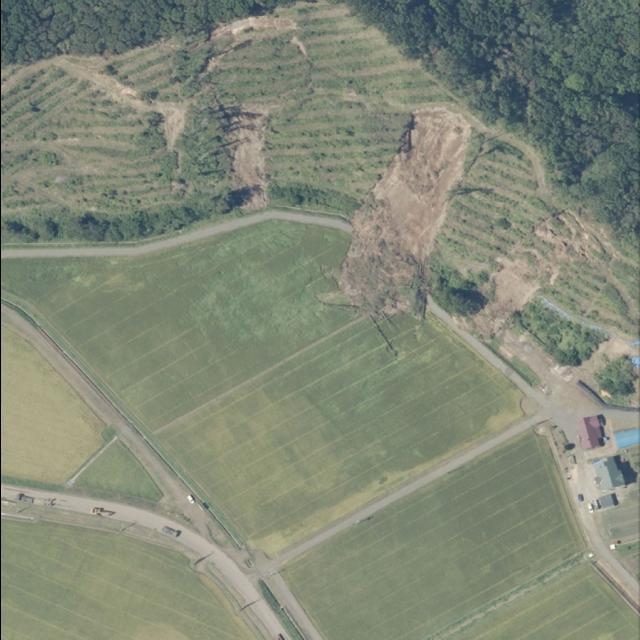landslide: (338, 108, 470, 315), (226, 110, 267, 211), (490, 260, 539, 312), (152, 100, 184, 150)
